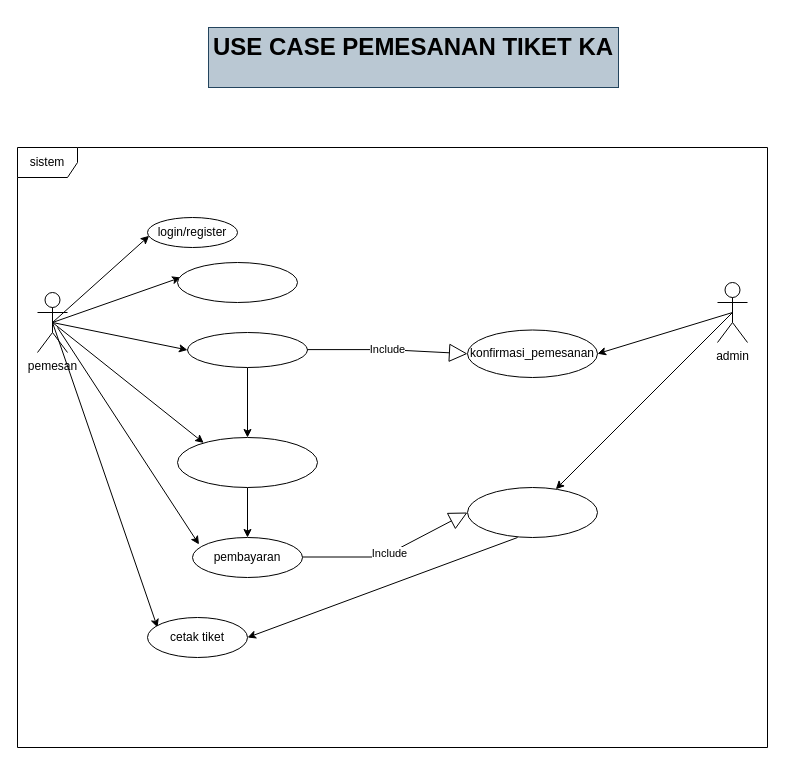
This 785x765 diagram has some shape labels left out. The box of each missing label's shape, as (x1, y1, x2, y2) in pixels:
isi data diri: (186, 332, 308, 368)
konfirmasi_pembayaran: (466, 486, 598, 538)
memesan tiket KA: (176, 262, 298, 302)
pilih kursi, tanggal dan waktu berangkat: (176, 436, 318, 488)
